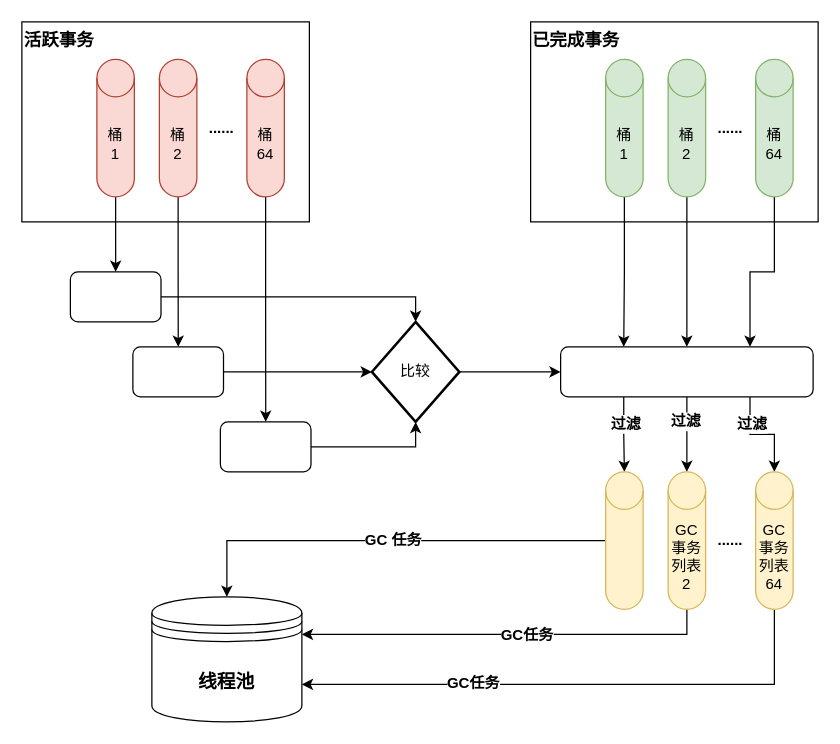
The diagram is 840 pixels wide and 744 high, and some of its shapes have lost their labels. The centre of each missing label's shape, as x and y in pixels:
GC事务列表 1: the point at 623,540
全局活跃事务最小开始时间戳: the point at 686,371
桶1最小 开始时间戳: the point at 115,296
桶2最小 开始时间戳: the point at 178,371
桶64最小 开始时间戳: the point at 265,446
